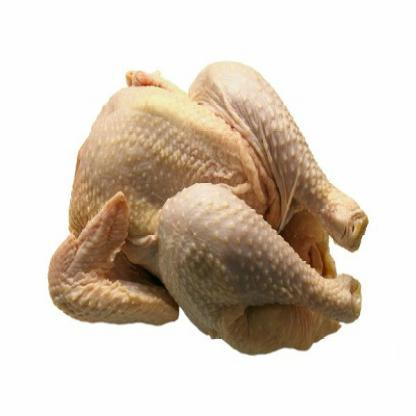chicken: (52, 40, 368, 364)
